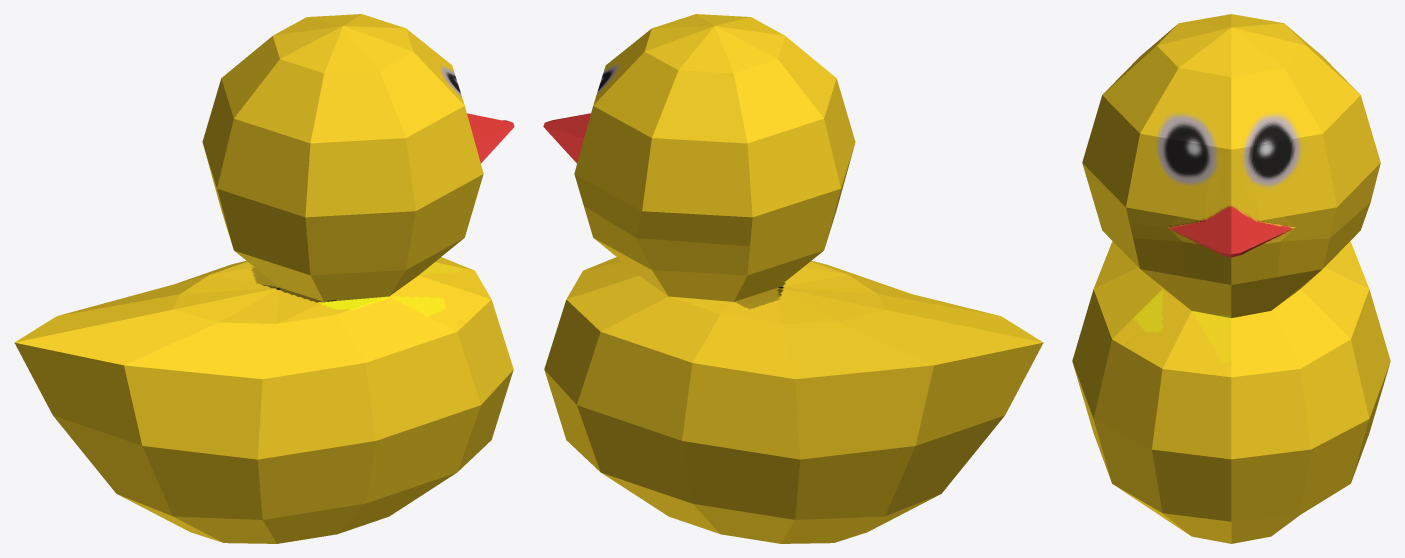
Rendered from Duck.fbx.
3 renders of one model, left to right at view 1: azimuth 30°, elevation 25°; view 2: azimuth 150°, elevation 25°; view 3: azimuth 270°, elevation 25°, orthographic. The views are drawn at different scales.
Parts seen in each view (by area): view 1: Sphere.001; view 2: Sphere.001; view 3: Sphere.001.
Part boxes in pixels (bbox=[...]): Sphere.001: bbox=[14, 14, 514, 543]; Sphere.001: bbox=[543, 14, 1043, 543]; Sphere.001: bbox=[1072, 14, 1390, 543].
Bounding box in the file's own units: 371 × 333 × 200.
